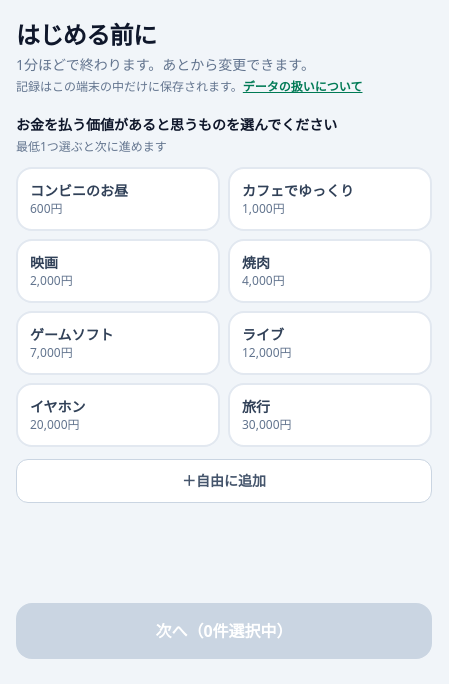
Scenario: このアプリについて › オンボーディング画面からデータの扱いへ移動できる
Click the link "データの扱いについて" at (303, 86), box [243,78,362,95]
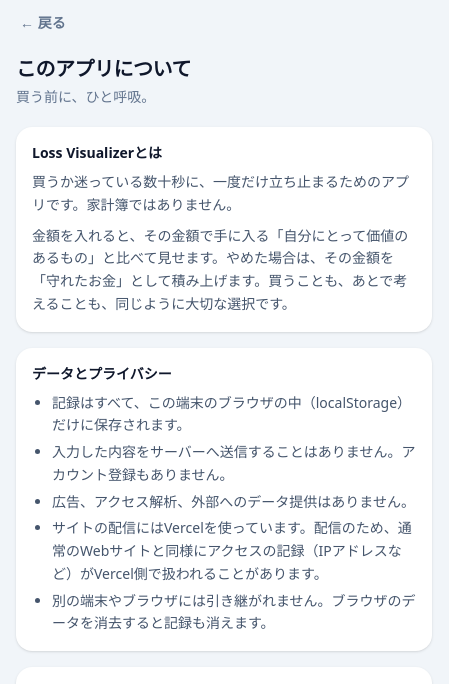
Check: the heading "このアプリについて" is shown, box [16,55,191,82]
